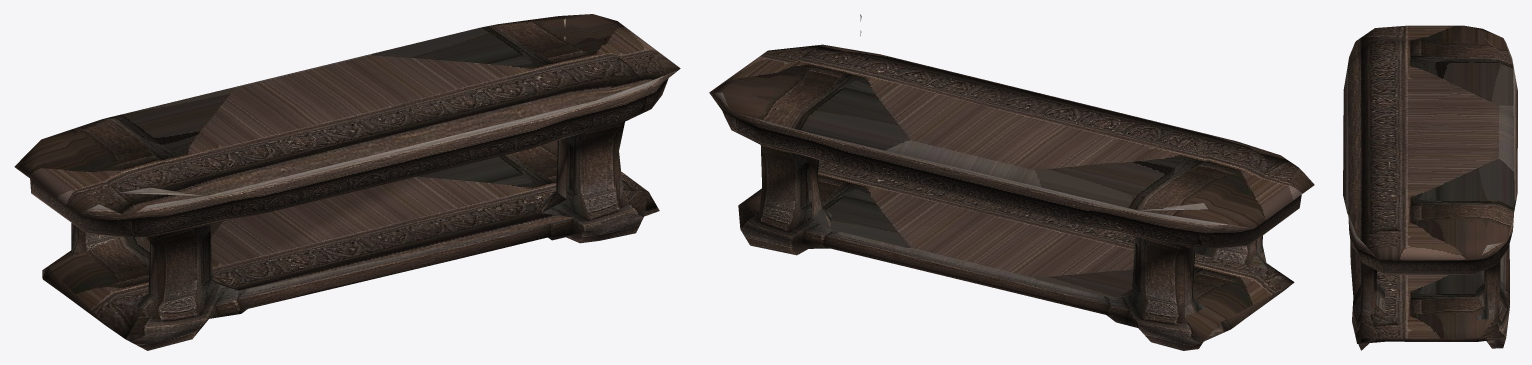
Rendered from longtable_med.glb.
3 renders of one model, left to right at view 1: azimuth 30°, elevation 25°; view 2: azimuth 150°, elevation 25°; view 3: azimuth 270°, elevation 25°, orthographic. The views are drawn at different scales.
Parts seen in each view (by area): view 1: longtable_med; view 2: longtable_med; view 3: longtable_med.
Part boxes in pixels (<box>): longtable_med: <box>14,14,680,350</box>; longtable_med: <box>709,14,1314,350</box>; longtable_med: <box>1343,25,1517,350</box>.
Bounding box in the file's own units: 3.1 × 1.06 × 0.9904.
Materials: 1 (1 with a texture image).
